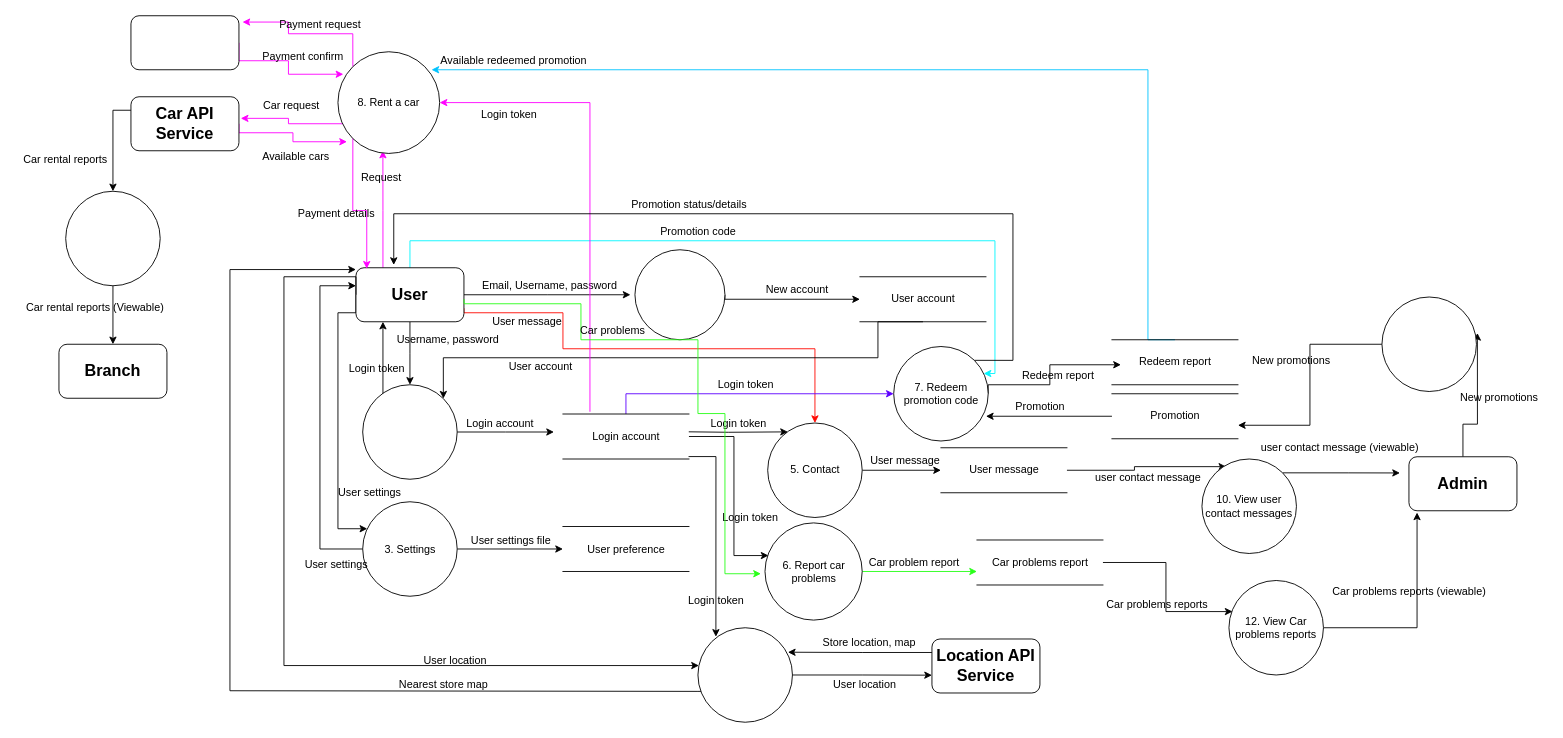
Some shapes in this 1563 by 738 pixel diagram are drawn without their labels. Here are the shapes that lost their labels. From the top down, the centre of each, then its label:
At point 184,42: "Payment API Service".
At point 112,238: "9. View car rental reports".
At point 679,294: "1. Register".
At point 1428,344: "11. Update promotions".
At point 409,431: "2. Login".
At point 744,674: "4. Find Stores".
